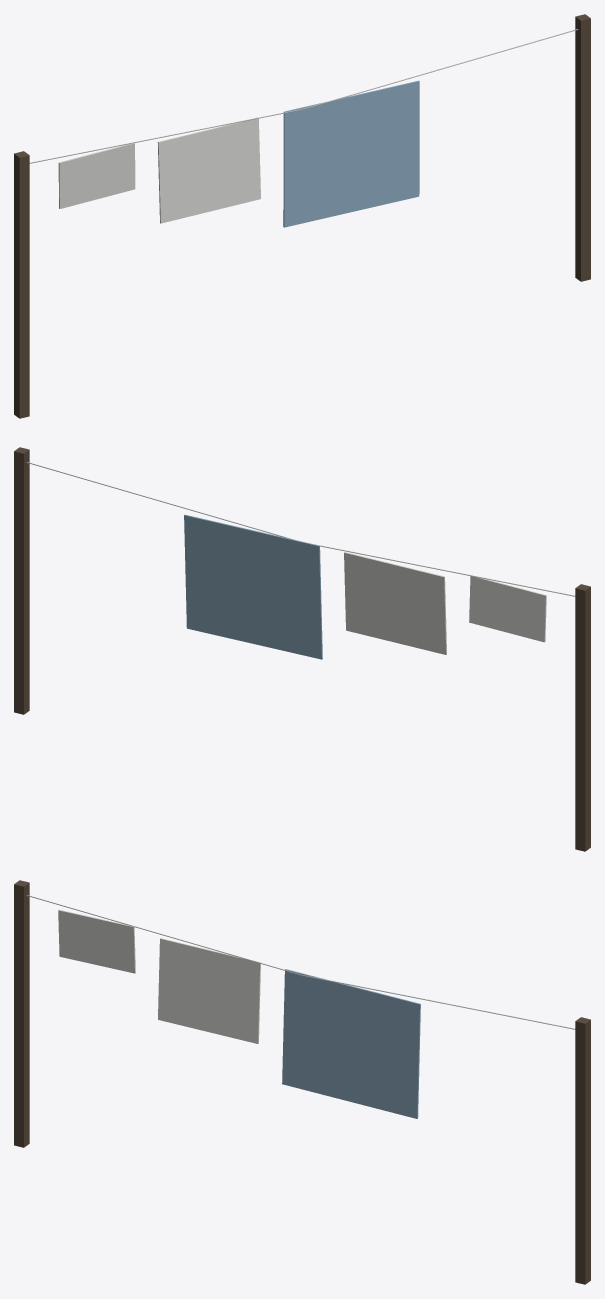
The model's file is street.garden.washing_line_0.glb.
The picture shows the model from 3 angles, top to bottom: view 1: azimuth 30°, elevation 25°; view 2: azimuth 150°, elevation 25°; view 3: azimuth 330°, elevation 25°; orthographic projection.
Visible parts, largest first — view 1: main__paint_9bc, main__paint_ddd, main__paint_654, main__paint_bbb; view 2: main__paint_9bc, main__paint_ddd, main__paint_654, main__paint_bbb; view 3: main__paint_9bc, main__paint_ddd, main__paint_654, main__paint_bbb.
Part boxes in pixels (bbox=[...]): main__paint_9bc: bbox=[283, 80, 419, 227]; main__paint_ddd: bbox=[58, 117, 260, 223]; main__paint_654: bbox=[14, 14, 590, 418]; main__paint_bbb: bbox=[29, 29, 578, 163]; main__paint_9bc: bbox=[184, 514, 322, 659]; main__paint_ddd: bbox=[344, 552, 546, 654]; main__paint_654: bbox=[14, 447, 590, 851]; main__paint_bbb: bbox=[26, 462, 575, 596]; main__paint_9bc: bbox=[282, 969, 420, 1118]; main__paint_ddd: bbox=[58, 909, 260, 1043]; main__paint_654: bbox=[14, 880, 590, 1284]; main__paint_bbb: bbox=[26, 895, 575, 1029].
Size of the model in its own units: 4.58 by 2 by 0.08.
